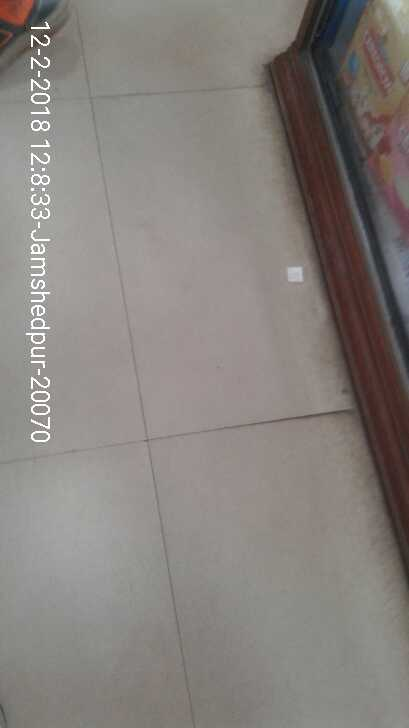reject: (122, 259, 278, 410)
